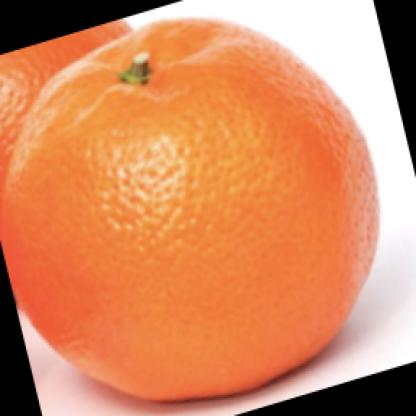fresh: (5, 21, 379, 400)
